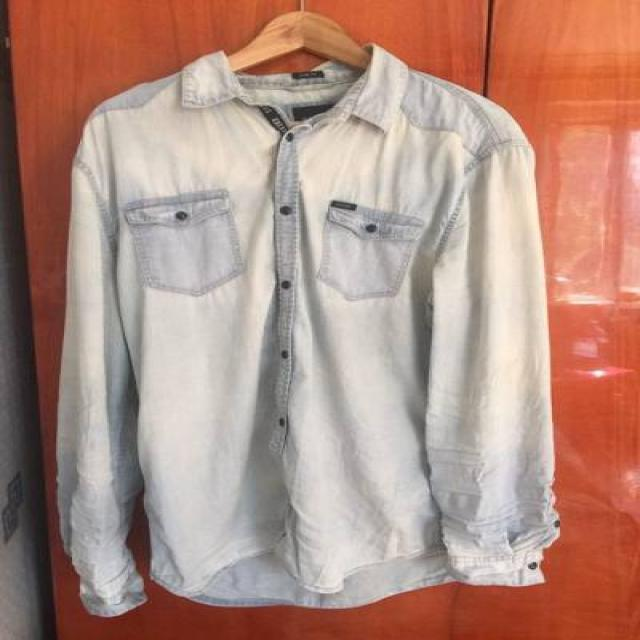Clothes -Biodegradable-: (50, 44, 558, 617)
